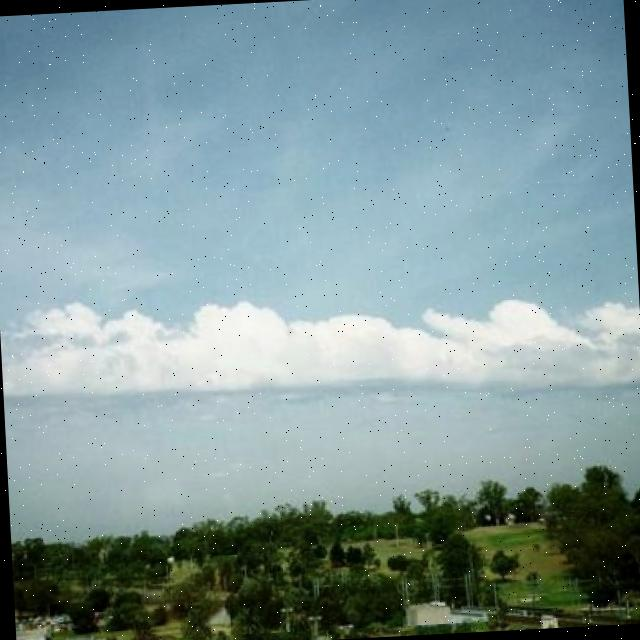Cs: (1, 112, 640, 467)
